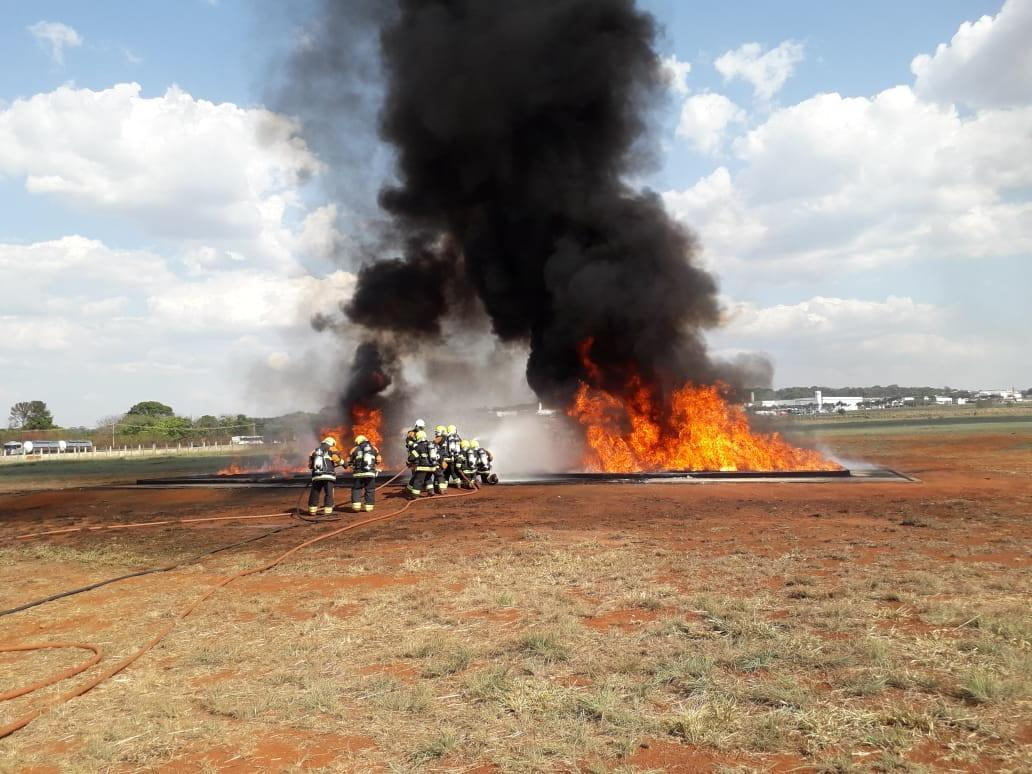Fire: (569, 372, 831, 480), (347, 410, 388, 440), (327, 428, 348, 456), (219, 464, 244, 478)
